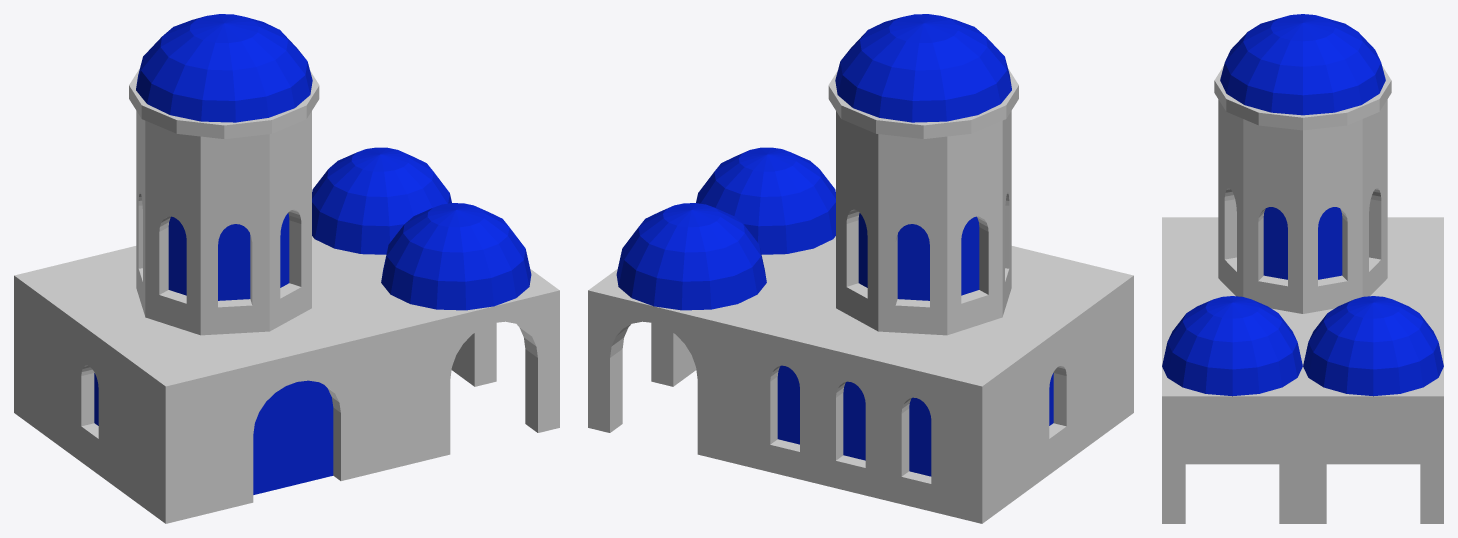
File: SM_Module6_001.fbx
3 renders of one model, left to right at view 1: azimuth 30°, elevation 25°; view 2: azimuth 150°, elevation 25°; view 3: azimuth 270°, elevation 25°, orthographic. The views are drawn at different scales.
Visible parts, largest first — view 1: 1DF1WS3WB.001, 8WOctogone.001, Sphere.074, Arche+Dome.004, Sphere.072, Sphere.073, TopDome.002, Door2.040, Window3.122, Cylinder.169, Arche+Dome.005; view 2: 1DF1WS3WB.001, 8WOctogone.001, Sphere.074, Arche+Dome.005, Sphere.073, Sphere.072, TopDome.002, Window3.121, Window3.122, Cylinder.169, Arche+Dome.004; view 3: 1DF1WS3WB.001, 8WOctogone.001, Sphere.074, Sphere.072, Sphere.073, Arche+Dome.004, Arche+Dome.005, TopDome.002, Window3.122, Cylinder.169.
Part boxes in pixels (x1,y1,x2,y2): 1DF1WS3WB.001: (14,237,428,523); 8WOctogone.001: (136,151,311,335); Sphere.074: (136,14,312,122); Arche+Dome.004: (353,259,559,459); Sphere.072: (381,203,531,310); Sphere.073: (312,147,451,254); TopDome.002: (136,111,311,197); Door2.040: (253,380,333,494); Window3.122: (168,213,289,300); Cylinder.169: (129,68,319,139); Arche+Dome.005: (312,236,461,377); 1DF1WS3WB.001: (719,237,1133,523); 8WOctogone.001: (836,151,1011,335); Sphere.074: (835,14,1011,122); Arche+Dome.005: (588,259,794,459); Sphere.073: (616,203,766,310); Sphere.072: (696,147,835,254); TopDome.002: (836,111,1011,197); Window3.121: (777,365,931,476); Window3.122: (858,213,979,300); Cylinder.169: (828,68,1018,139); Arche+Dome.004: (686,236,835,377); 1DF1WS3WB.001: (1162,217,1443,464); 8WOctogone.001: (1218,151,1387,313); Sphere.074: (1220,14,1385,115); Sphere.072: (1162,296,1302,396); Sphere.073: (1303,296,1443,396); Arche+Dome.004: (1162,336,1302,523); Arche+Dome.005: (1303,336,1443,523); TopDome.002: (1218,99,1387,186); Window3.122: (1263,207,1342,279); Cylinder.169: (1214,66,1391,130).
Bounding box in the file's own units: 750 × 750 × 500.
